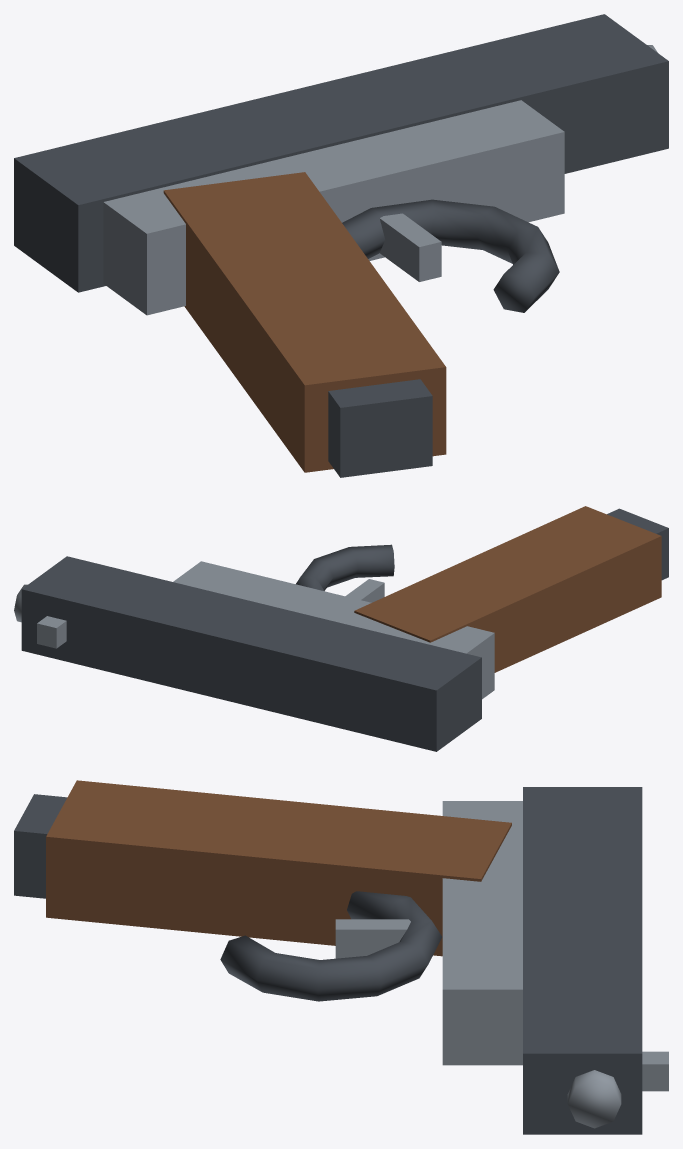
Rendered from weapon_pistol.glb.
The picture shows the model from 3 angles, top to bottom: view 1: azimuth 30°, elevation 25°; view 2: azimuth 150°, elevation 25°; view 3: azimuth 270°, elevation 25°; orthographic projection. The views are drawn at different scales.
Visible parts, largest first — view 1: slide, butt, frame, guard, mag, trigger; view 2: slide, butt, frame, guard, mag, sight, trigger; view 3: butt, slide, frame, guard, mag, bore, trigger, sight.
Part boxes in pixels (<box>): slide: <box>14,14,668,292</box>; butt: <box>163,172,446,472</box>; frame: <box>103,100,564,315</box>; guard: <box>342,199,559,312</box>; mag: <box>328,379,432,477</box>; trigger: <box>379,213,441,281</box>; slide: <box>21,556,481,751</box>; butt: <box>354,506,661,672</box>; frame: <box>173,561,494,699</box>; guard: <box>296,544,394,591</box>; mag: <box>607,508,668,580</box>; sight: <box>37,616,66,648</box>; trigger: <box>345,579,384,602</box>; butt: <box>46,780,511,956</box>; slide: <box>523,787,642,1134</box>; frame: <box>442,801,522,1065</box>; guard: <box>220,891,442,1001</box>; mag: <box>14,794,67,898</box>; bore: <box>567,1070,621,1128</box>; trigger: <box>335,919,410,958</box>; sight: <box>642,1051,668,1091</box>.
Size of the model in its own units: 0.2253 by 0.03 by 0.22.
